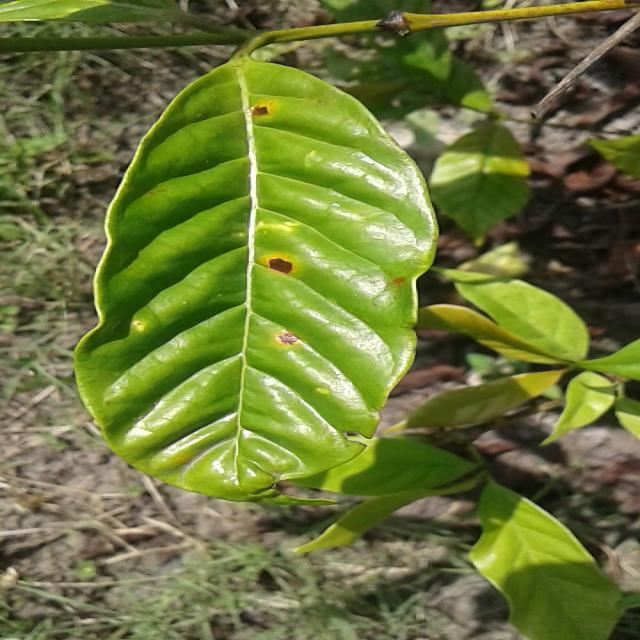Enfermedad-Roya: (71, 65, 438, 502)
